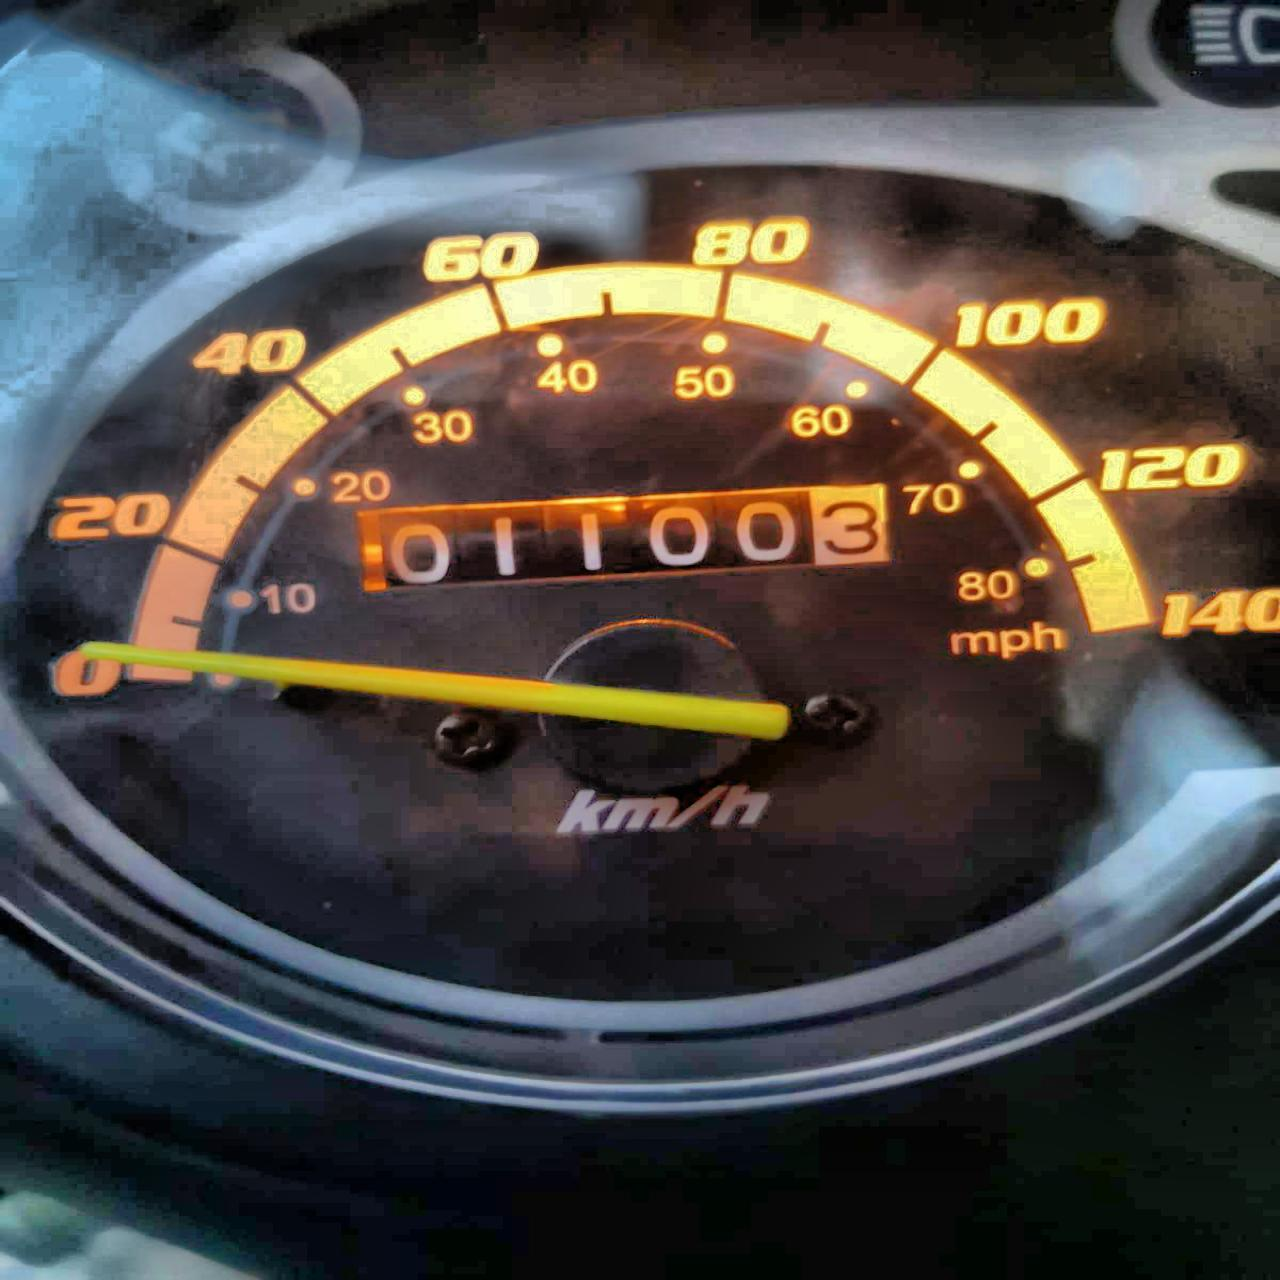0: (382, 518, 452, 586), (728, 497, 798, 565), (642, 503, 710, 571)
1: (566, 508, 617, 573), (484, 512, 523, 578)
3: (816, 495, 881, 556)
odometer: (353, 485, 905, 593)
